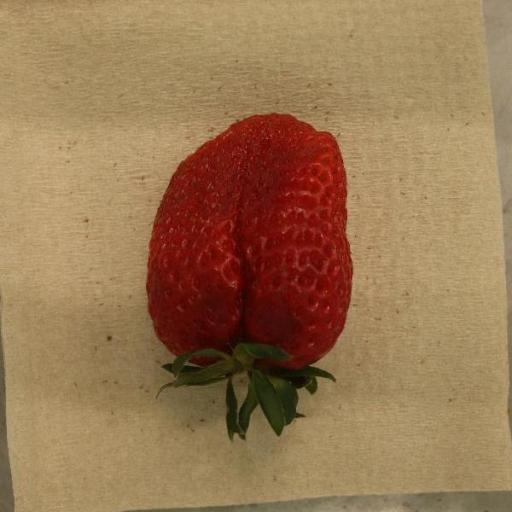Strawberry: (146, 113, 353, 442)
